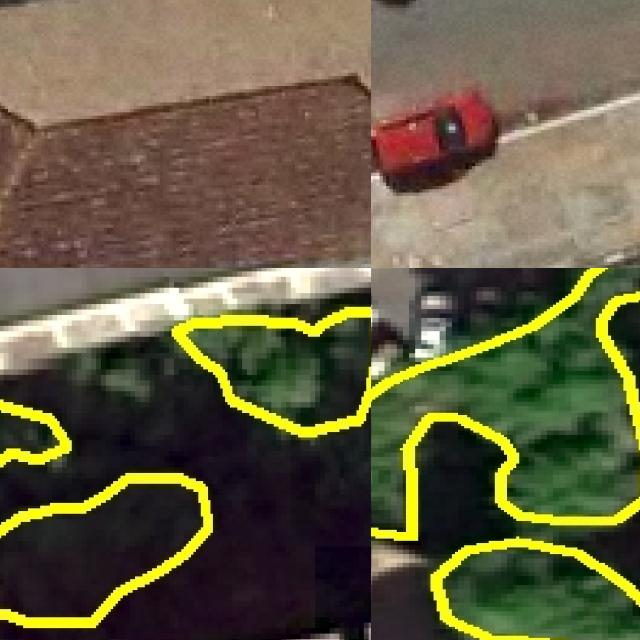trees: (372, 269, 640, 537), (1, 477, 209, 624), (175, 311, 372, 433), (435, 540, 640, 640), (1, 403, 68, 463)
